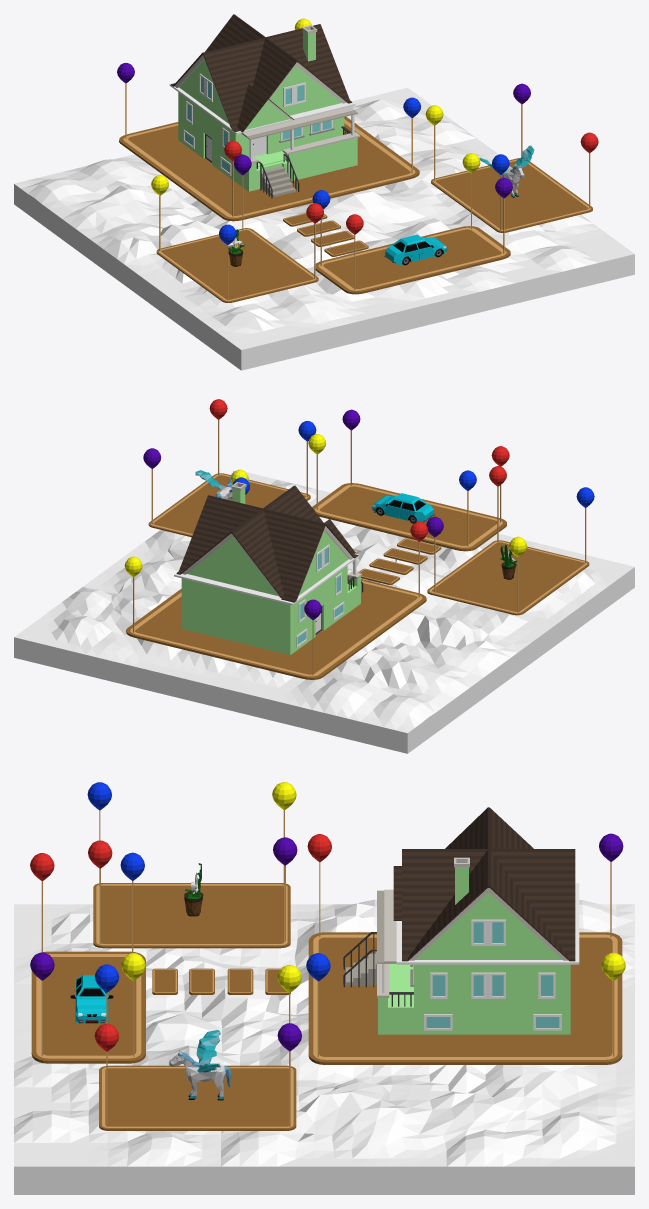
The picture shows the model from 3 angles, top to bottom: view 1: azimuth 30°, elevation 25°; view 2: azimuth 150°, elevation 25°; view 3: azimuth 270°, elevation 25°; orthographic projection. The views are drawn at different scales.
Parts seen in each view (by area): view 1: Cube.013, Cube.274, VEHICLES_CAR, ANIMAL_PEGASO; view 2: Cube.013, Cube.274, VEHICLES_CAR; view 3: Cube.013, Cube.274, ANIMAL_PEGASO, VEHICLES_CAR, OBJRANDOM_MONJA BLANCA.
Boxes of the visible parts, box(x1,y1,x2,y2) form: Cube.013: box(14, 18, 634, 370); Cube.274: box(169, 14, 360, 198); VEHICLES_CAR: box(384, 234, 446, 265); ANIMAL_PEGASO: box(479, 145, 534, 197); Cube.013: box(14, 399, 634, 753); Cube.274: box(174, 482, 363, 655); VEHICLES_CAR: box(372, 493, 434, 523); Cube.013: box(14, 782, 634, 1194); Cube.274: box(343, 807, 579, 1034); ANIMAL_PEGASO: box(169, 1030, 231, 1100); VEHICLES_CAR: box(70, 975, 113, 1023); OBJRANDOM_MONJA BLANCA: box(184, 863, 203, 916).
Bounding box in the file's own units: 4000 × 1840 × 4000.
40 materials, 1 textured.
